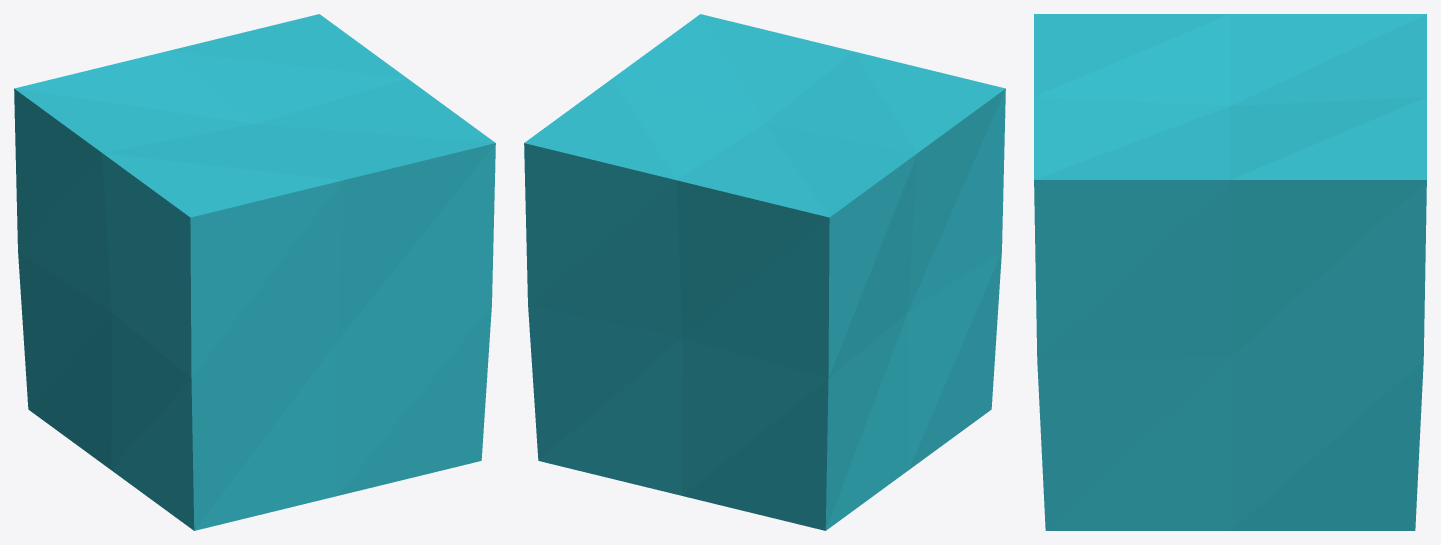
The model's file is resources-epoxi-resin.glb.
3 views of the same model, side by side, from view 1: azimuth 30°, elevation 25°; view 2: azimuth 150°, elevation 25°; view 3: azimuth 270°, elevation 25° (orthographic). The views are drawn at different scales.
Visible parts, largest first — view 1: epoxi-resin; view 2: epoxi-resin; view 3: epoxi-resin.
Part boxes in pixels (left/top/right/bottom): epoxi-resin: left=14, top=14, right=495, bottom=530; epoxi-resin: left=524, top=14, right=1005, bottom=530; epoxi-resin: left=1034, top=14, right=1426, bottom=530.
Bounding box in the file's own units: 0.1 × 0.0999 × 0.1.
